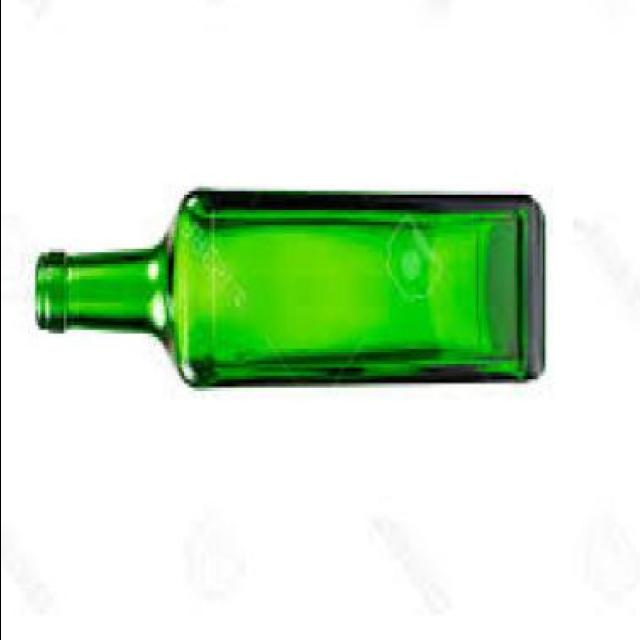kaca: (29, 195, 542, 391)
